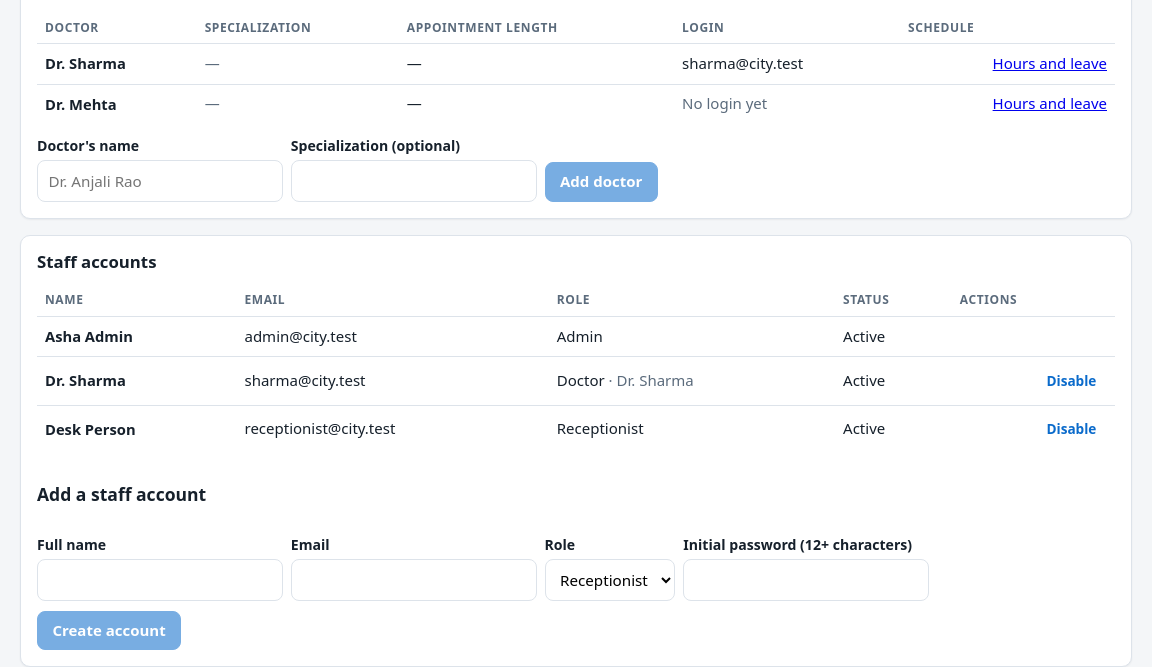
Test case: TeamScreen › creates a doctor login only for a doctor who has none yet
(page scrolled)
Expected: the heading "Staff accounts" is shown, x1=37 y1=250 x2=156 y2=273
Type "Dr. Mehta" into the field labelled "Full name" at coordinates (160, 580), box x1=37 y1=559 x2=283 y2=601
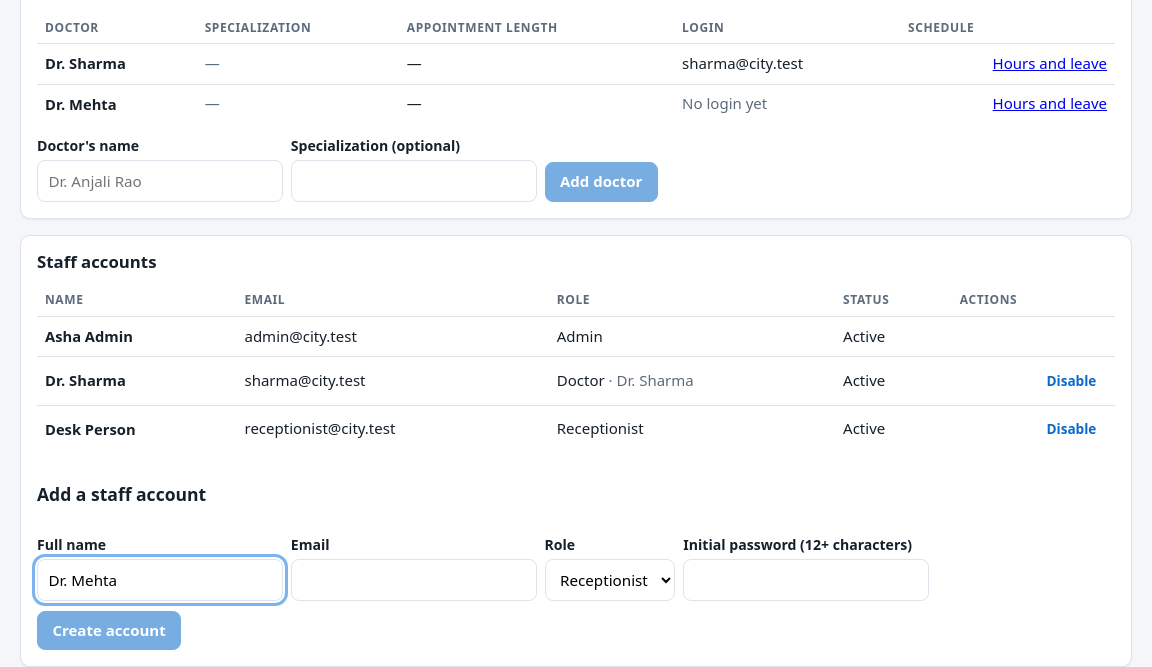
Type "mehta@city.test" into the field labelled "Email" at coordinates (414, 580), box x1=291 y1=559 x2=537 y2=601
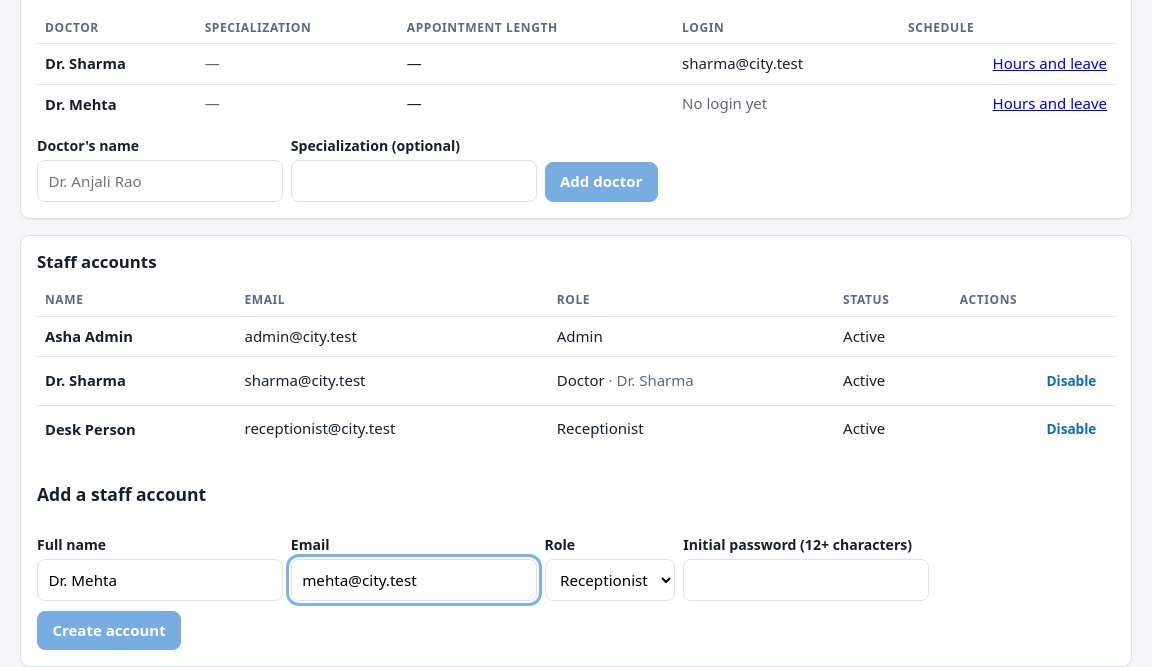
Select "Doctor" in the dropdown labelled "Role" at coordinates (610, 580), box x1=545 y1=559 x2=675 y2=601
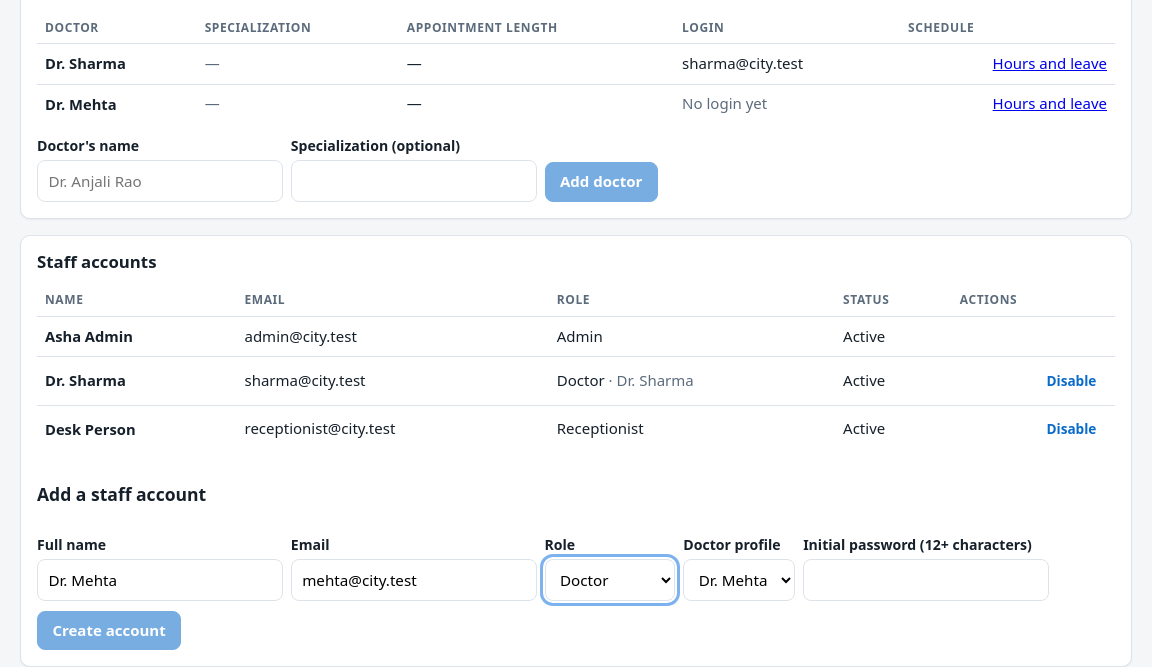
Type "a-long-initial-pass" into the password field labelled "Initial password (12+ characters)" at coordinates (926, 580), box x1=803 y1=559 x2=1049 y2=601
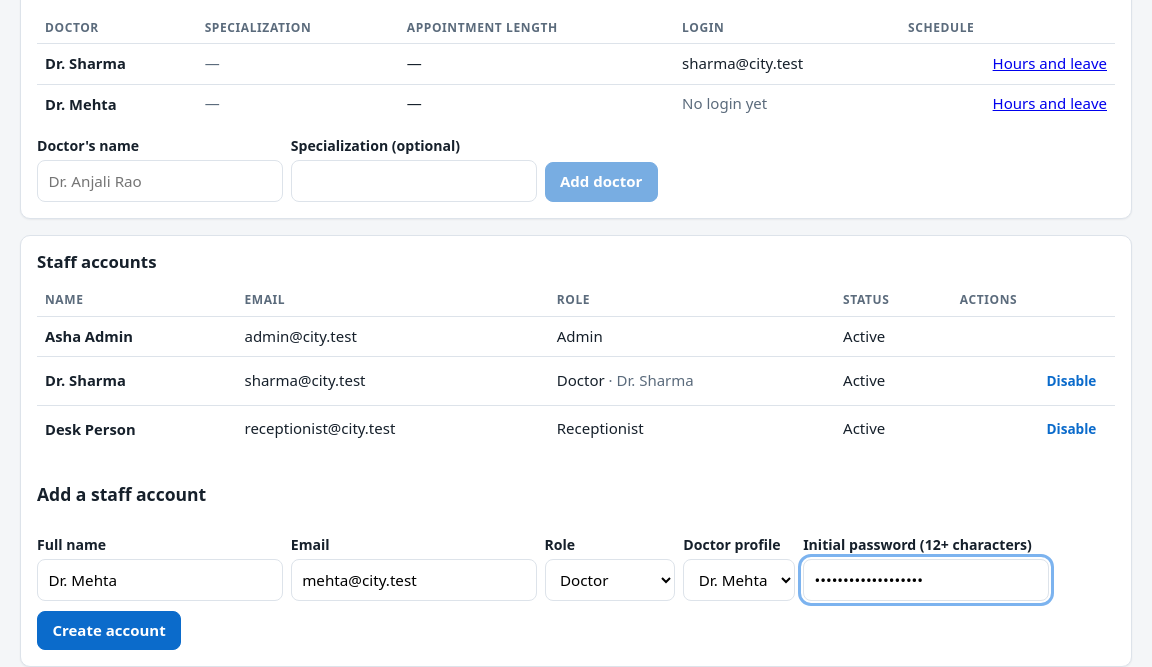
Click the button "Create account" at coordinates (109, 630), box x1=37 y1=611 x2=181 y2=650
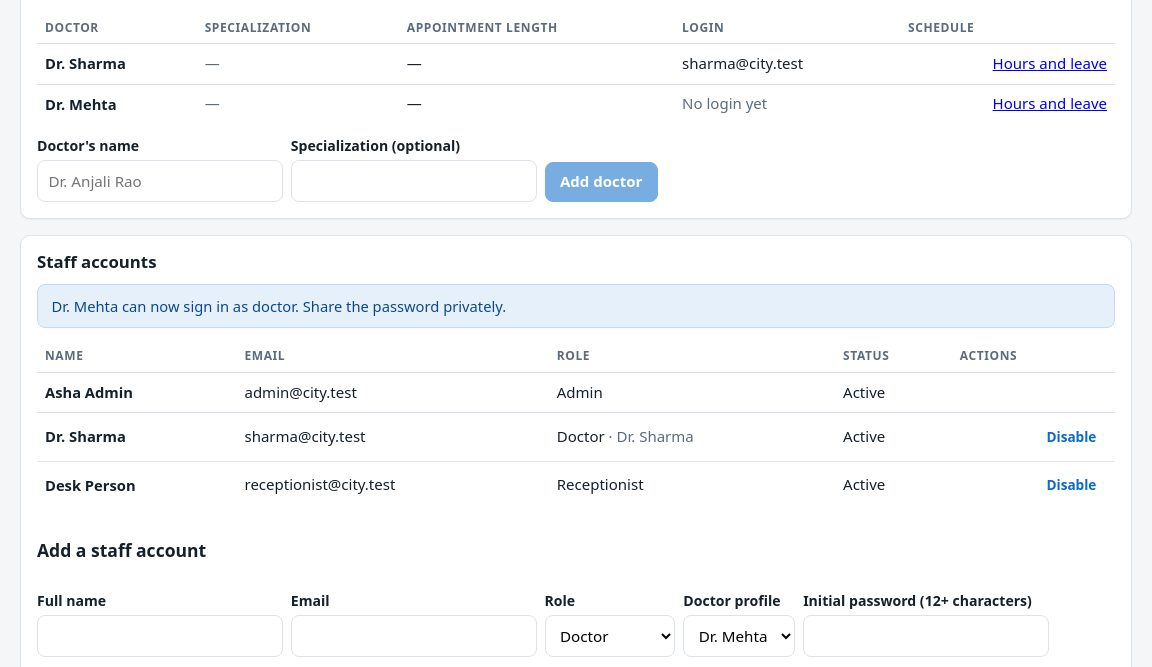
Expected: the text "Dr. Mehta can now sign in as doctor. Share the password privately." is shown, x1=37 y1=284 x2=1115 y2=328
